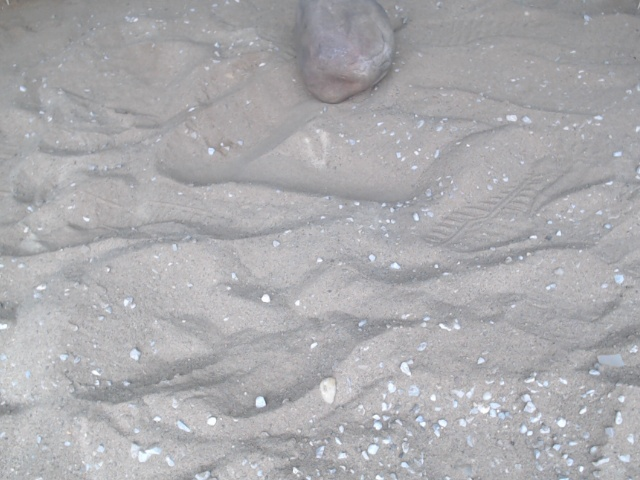rock: (287, 1, 404, 109)
